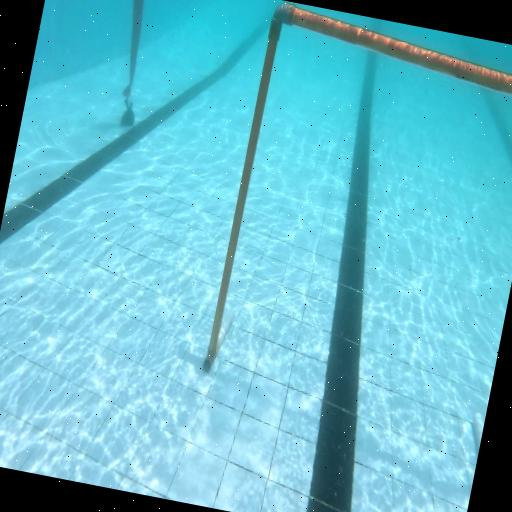gate: (192, 0, 512, 476)
